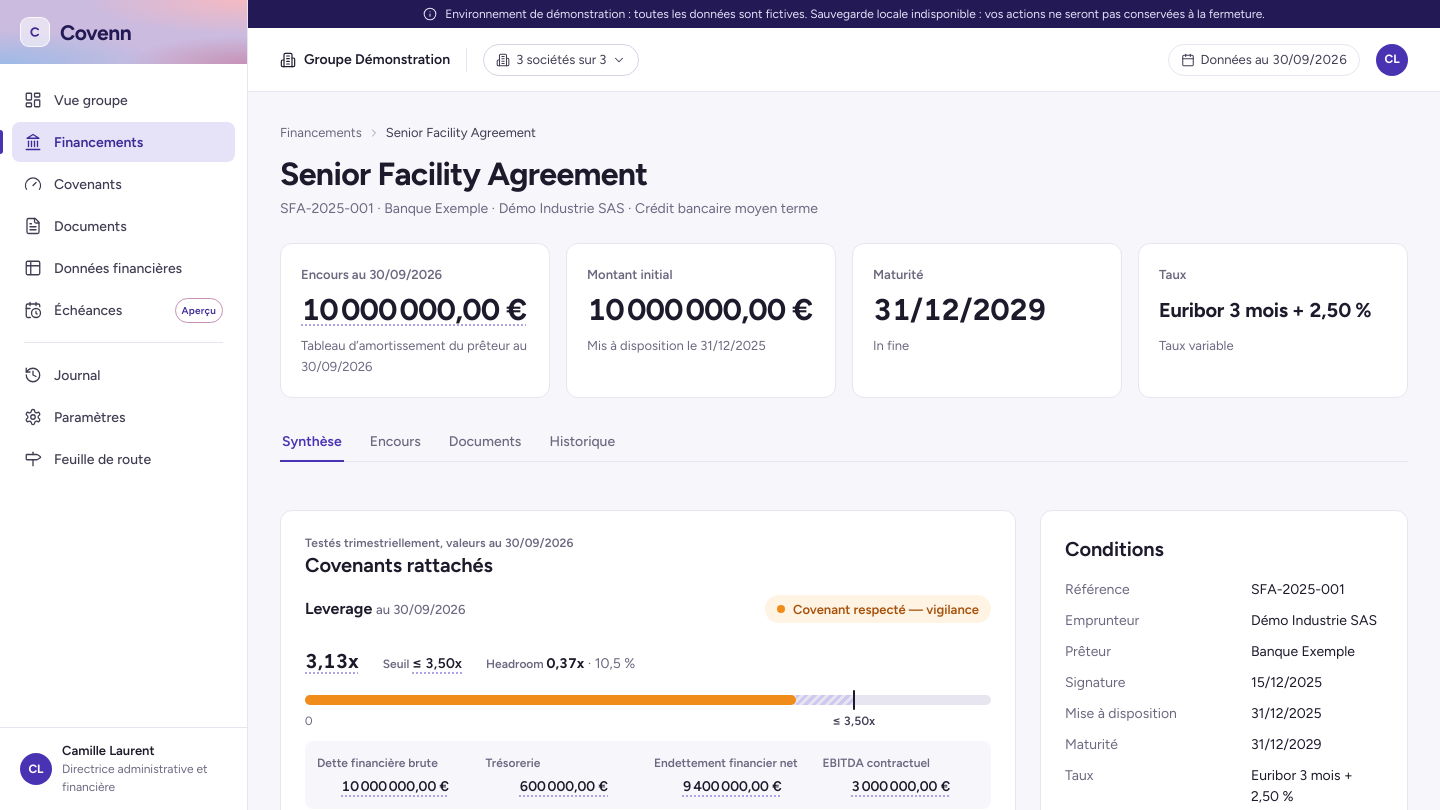
Test: routeur autonome (fichier ouvert directement ou aperçu encapsulé) › démarre sur la route du fragment, rend des liens « #/… » et reflète la navigation dans l’adresse
Expected: the heading "Senior Facility Agreement" is shown, [280,154,648,194]
Step 1. Click the link "Covenants" → coordinates (73, 184), box [24,175,122,193]
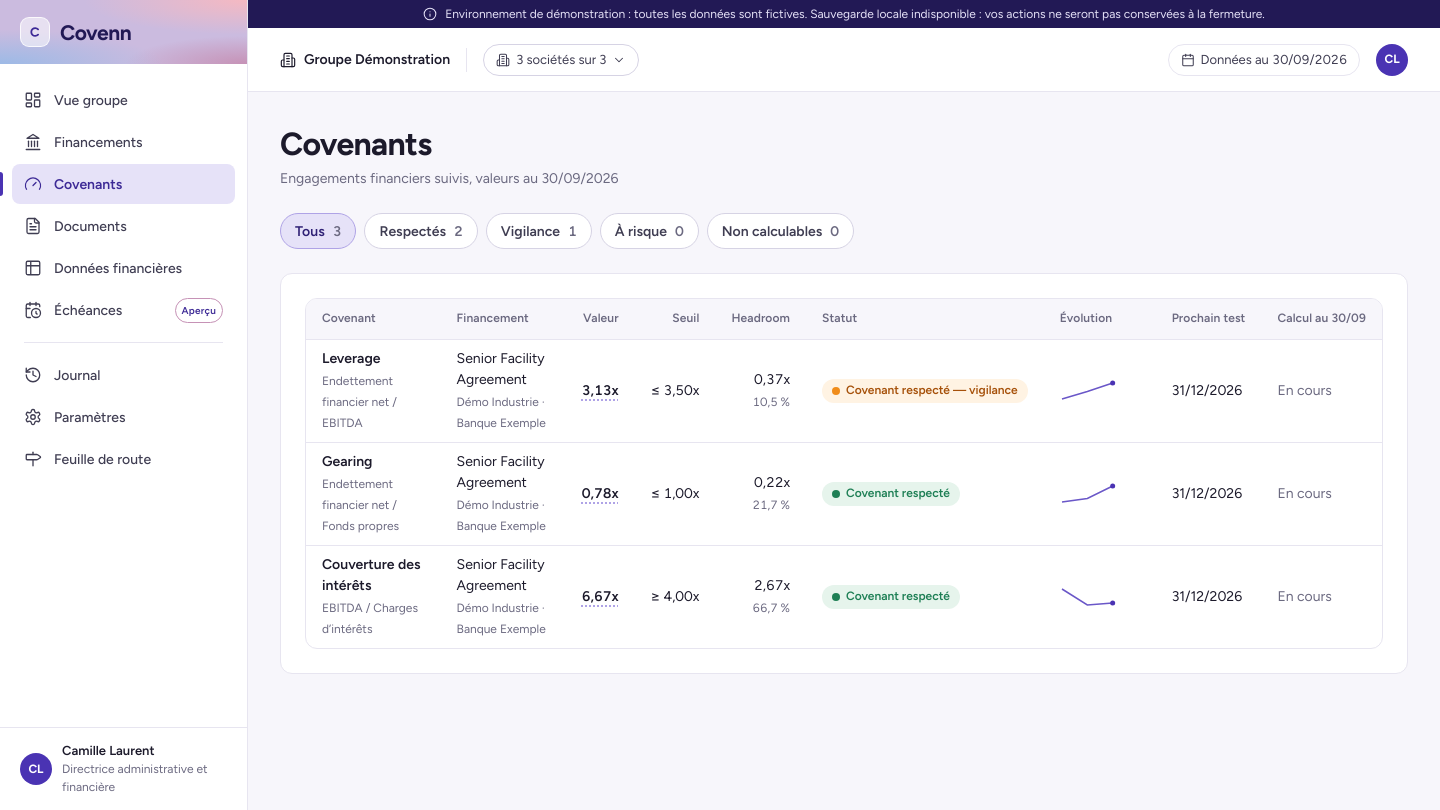
Now the heading "Covenants" is shown, box [280,124,432,164]
